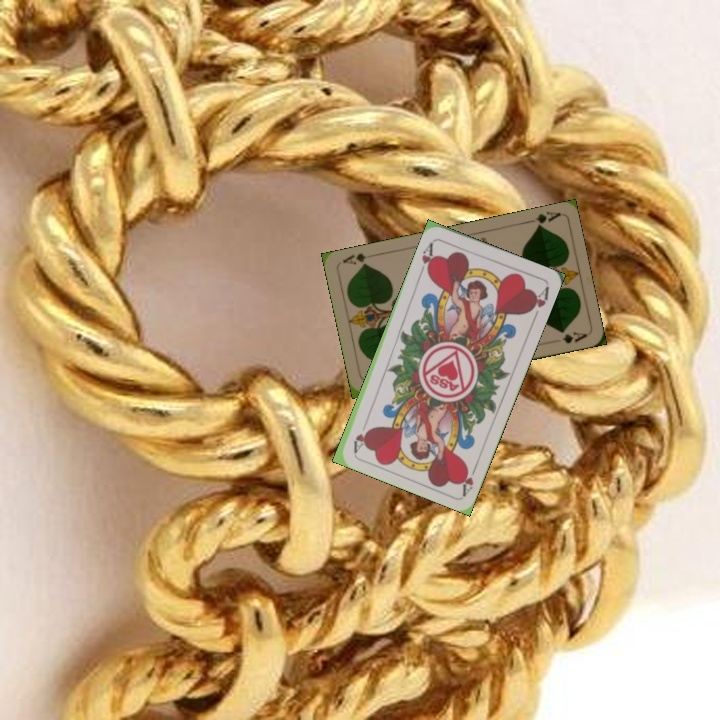GA: (522, 208, 562, 231)
HA: (457, 458, 481, 497), (416, 237, 438, 278)
